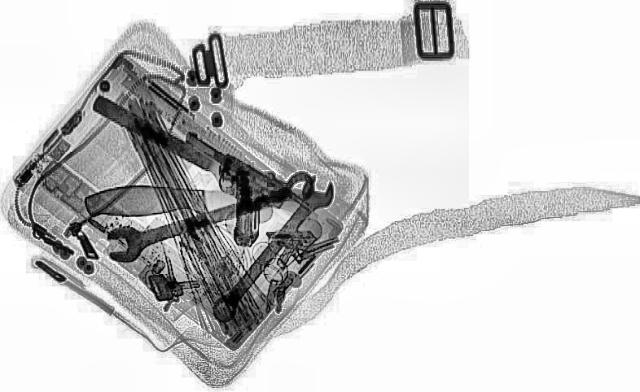Gun: (80, 118, 322, 250)
Knife: (83, 184, 329, 220)
Wrench: (88, 170, 336, 266), (199, 175, 343, 325)
